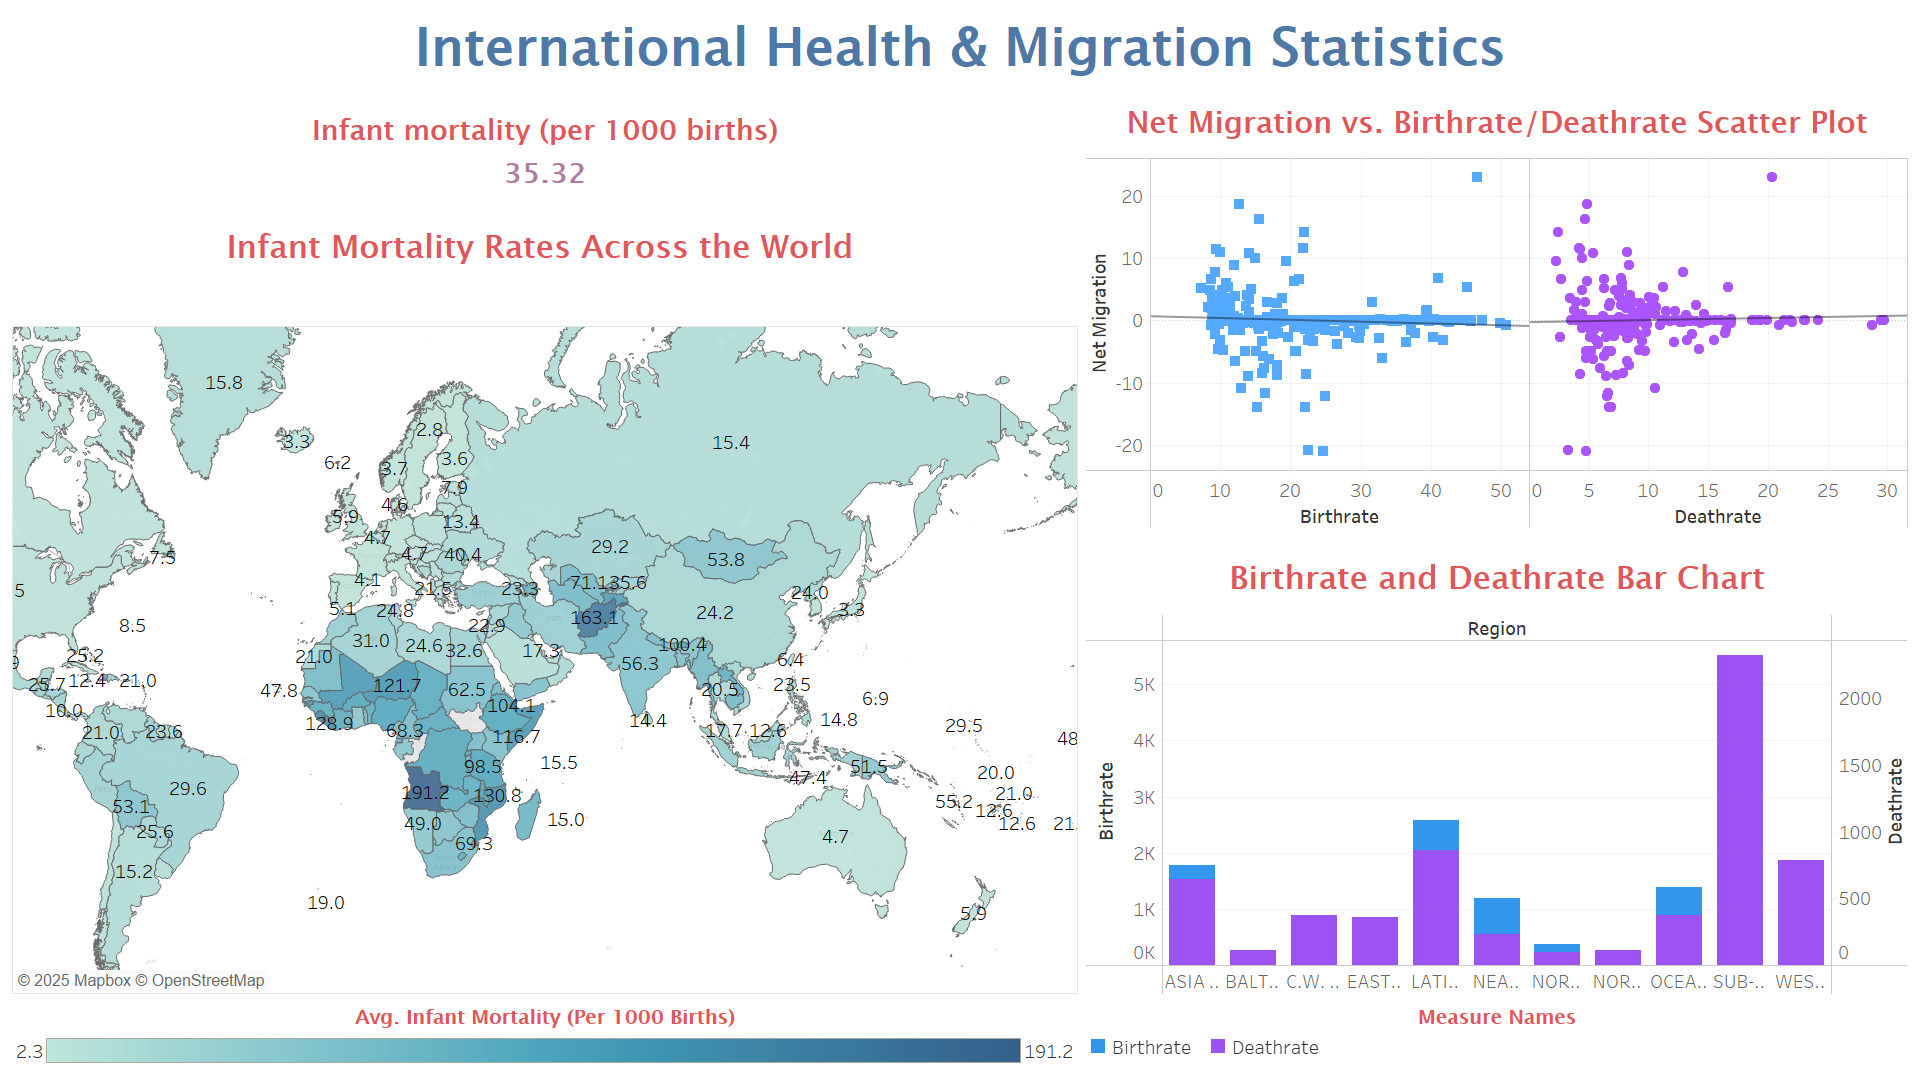

Layout of this report page (visuals, bound fields, positions):
{"tool":"tableau","page":{"name":"Dashboard 5","canvas":[1000,1000],"units":"permille","ordinal":4},"visuals":[{"type":"text","box":[4.2,9.2,991.5,78.5]},{"type":"text","box":[4.2,87.7,550.5,112]},{"type":"worksheet","title":"Sheet 19","mark":"Circle","rows":["net_migration"],"cols":["birthrate","deathrate"],"box":[554.7,87.7,441,412.7]},{"type":"worksheet","title":"Sheet 20","mark":"Automatic","box":[4.2,199.7,550.5,712.3]},{"type":"worksheet","title":"Sheet 21","mark":"Bar","rows":["birthrate","deathrate"],"cols":["region"],"box":[554.7,500.4,441,411.6]},{"type":"legend","title":"Sheet 20","param":"[federated.1c3u9131ed1j9b19gkh9f0900v8d].[avg:infant_mortality_(per_1000_births)","box":[4.2,912,550.5,78.8]},{"type":"legend","title":"Sheet 21","param":"[federated.1c3u9131ed1j9b19gkh9f0900v8d].[:Measure Names]","box":[554.7,912,441,75.1]}]}

Visuals, with their boxes on the dashboard's canvas, which has no fixed pixel size, in thousandths of its width and height (x1, y1, x2, y2). These are canvas units, not pixel positions in the 1912x1087 screenshot, which may show the page scaled, cropped or inside an application window:
text: [left=4, top=9, right=996, bottom=88]
text: [left=4, top=88, right=555, bottom=200]
"Sheet 19" worksheet (Circle marks): [left=555, top=88, right=996, bottom=500]
"Sheet 20" worksheet: [left=4, top=200, right=555, bottom=912]
"Sheet 21" worksheet (Bar marks): [left=555, top=500, right=996, bottom=912]
"Sheet 20" legend: [left=4, top=912, right=555, bottom=991]
"Sheet 21" legend: [left=555, top=912, right=996, bottom=987]
